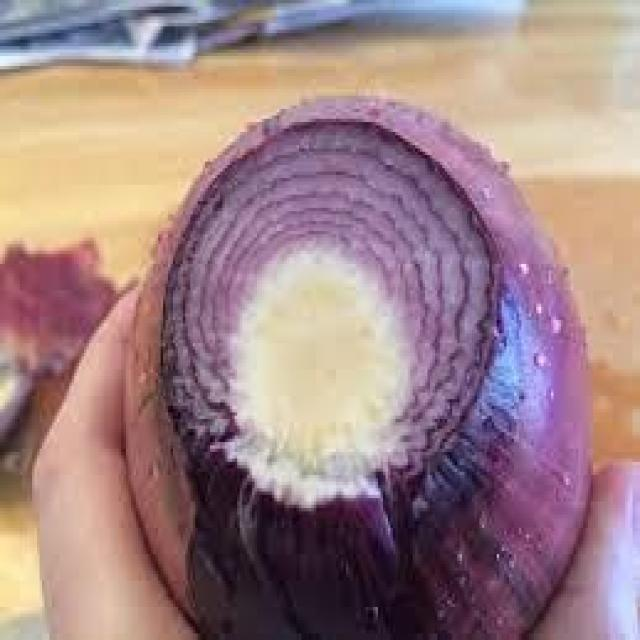Onion: (124, 86, 590, 640)
